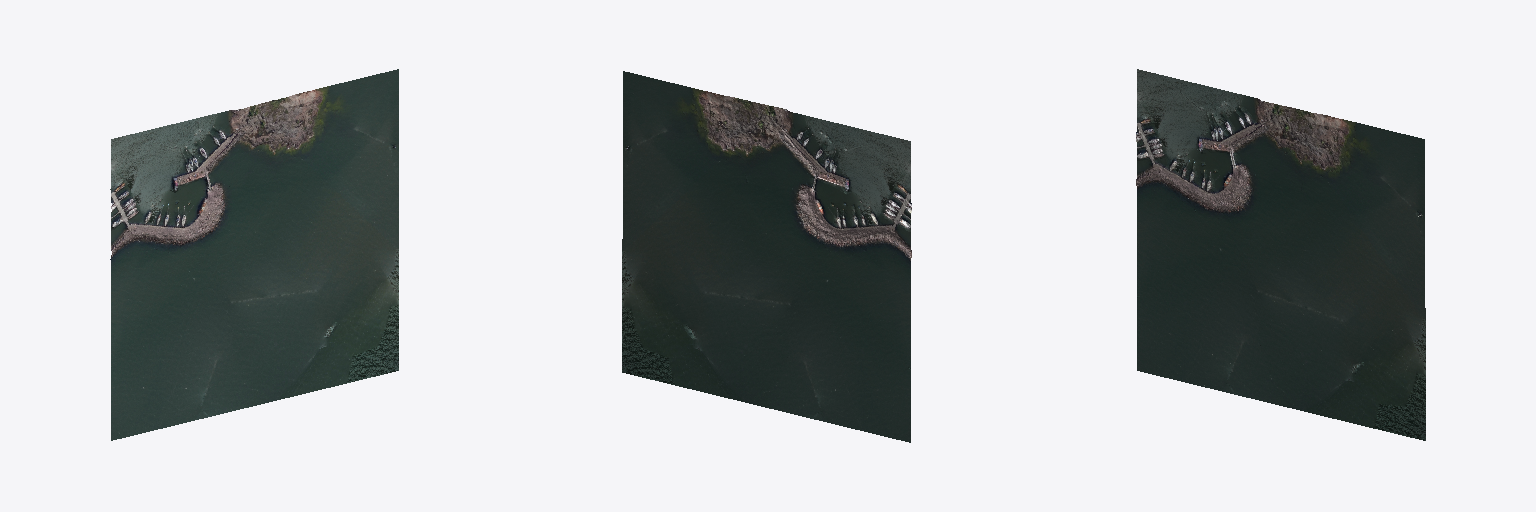
3 renders of one model, left to right at view 1: azimuth 30°, elevation 25°; view 2: azimuth 150°, elevation 25°; view 3: azimuth 330°, elevation 25°, orthographic.
Bounding box in the file's own units: 252 × 252 × 4.44.
Materials: 2 (1 with a texture image).